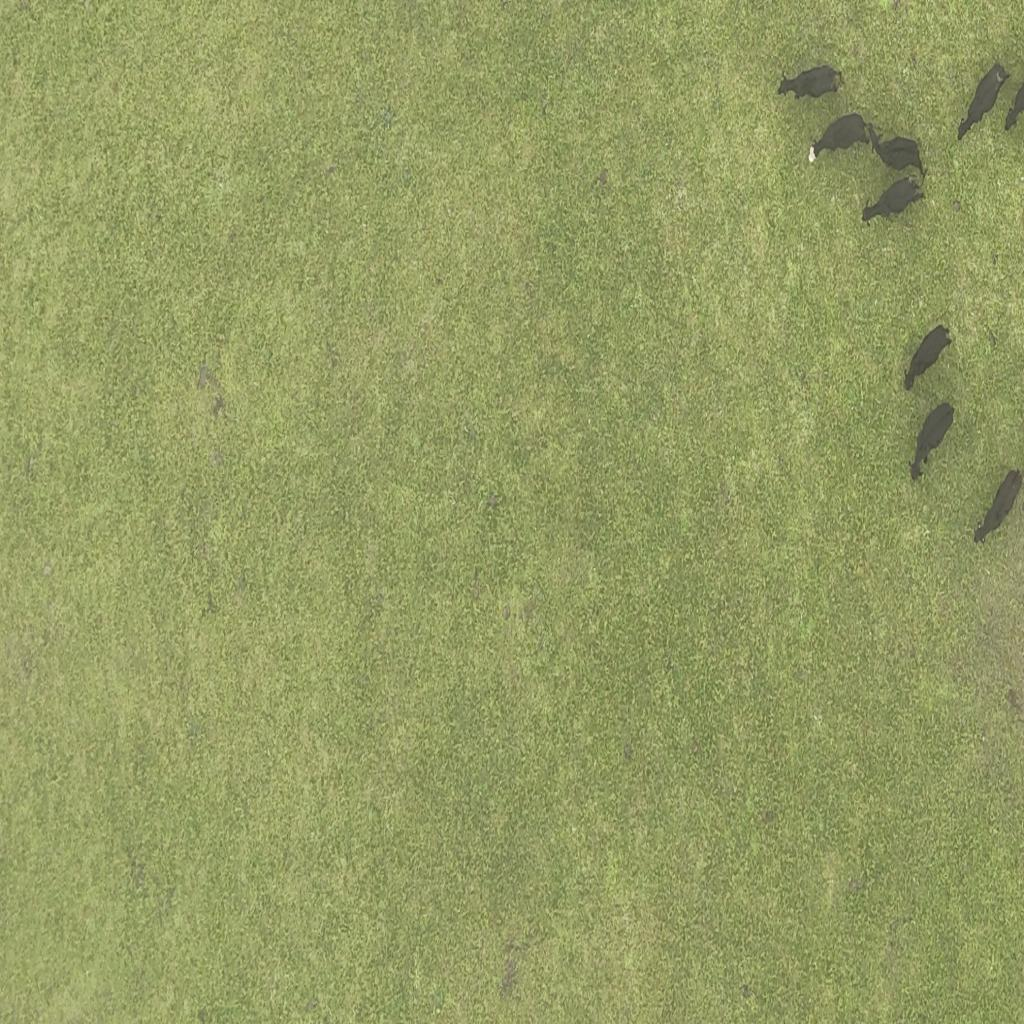cow: (955, 62, 1011, 142), (908, 399, 957, 484), (862, 122, 928, 184), (973, 467, 1024, 545), (903, 322, 953, 390), (862, 174, 926, 226), (808, 112, 874, 159), (778, 65, 840, 102)
